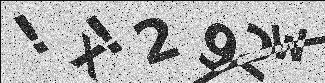!: (81, 9, 128, 54), (11, 10, 51, 55)
2: (130, 11, 186, 67), (236, 17, 272, 83)
9: (197, 15, 238, 75)
w: (271, 21, 308, 66)
x: (66, 29, 109, 82)
